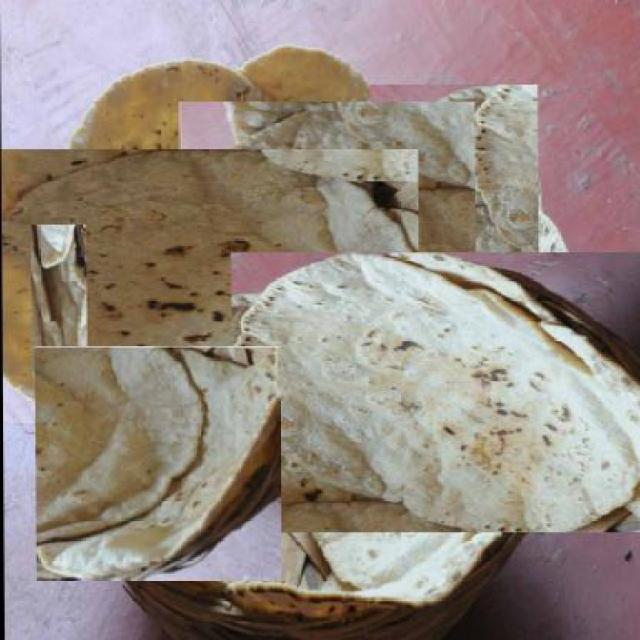chapati: (13, 106, 378, 468), (266, 217, 620, 569), (207, 72, 450, 314), (38, 344, 280, 585), (369, 83, 542, 254), (29, 224, 88, 384)
